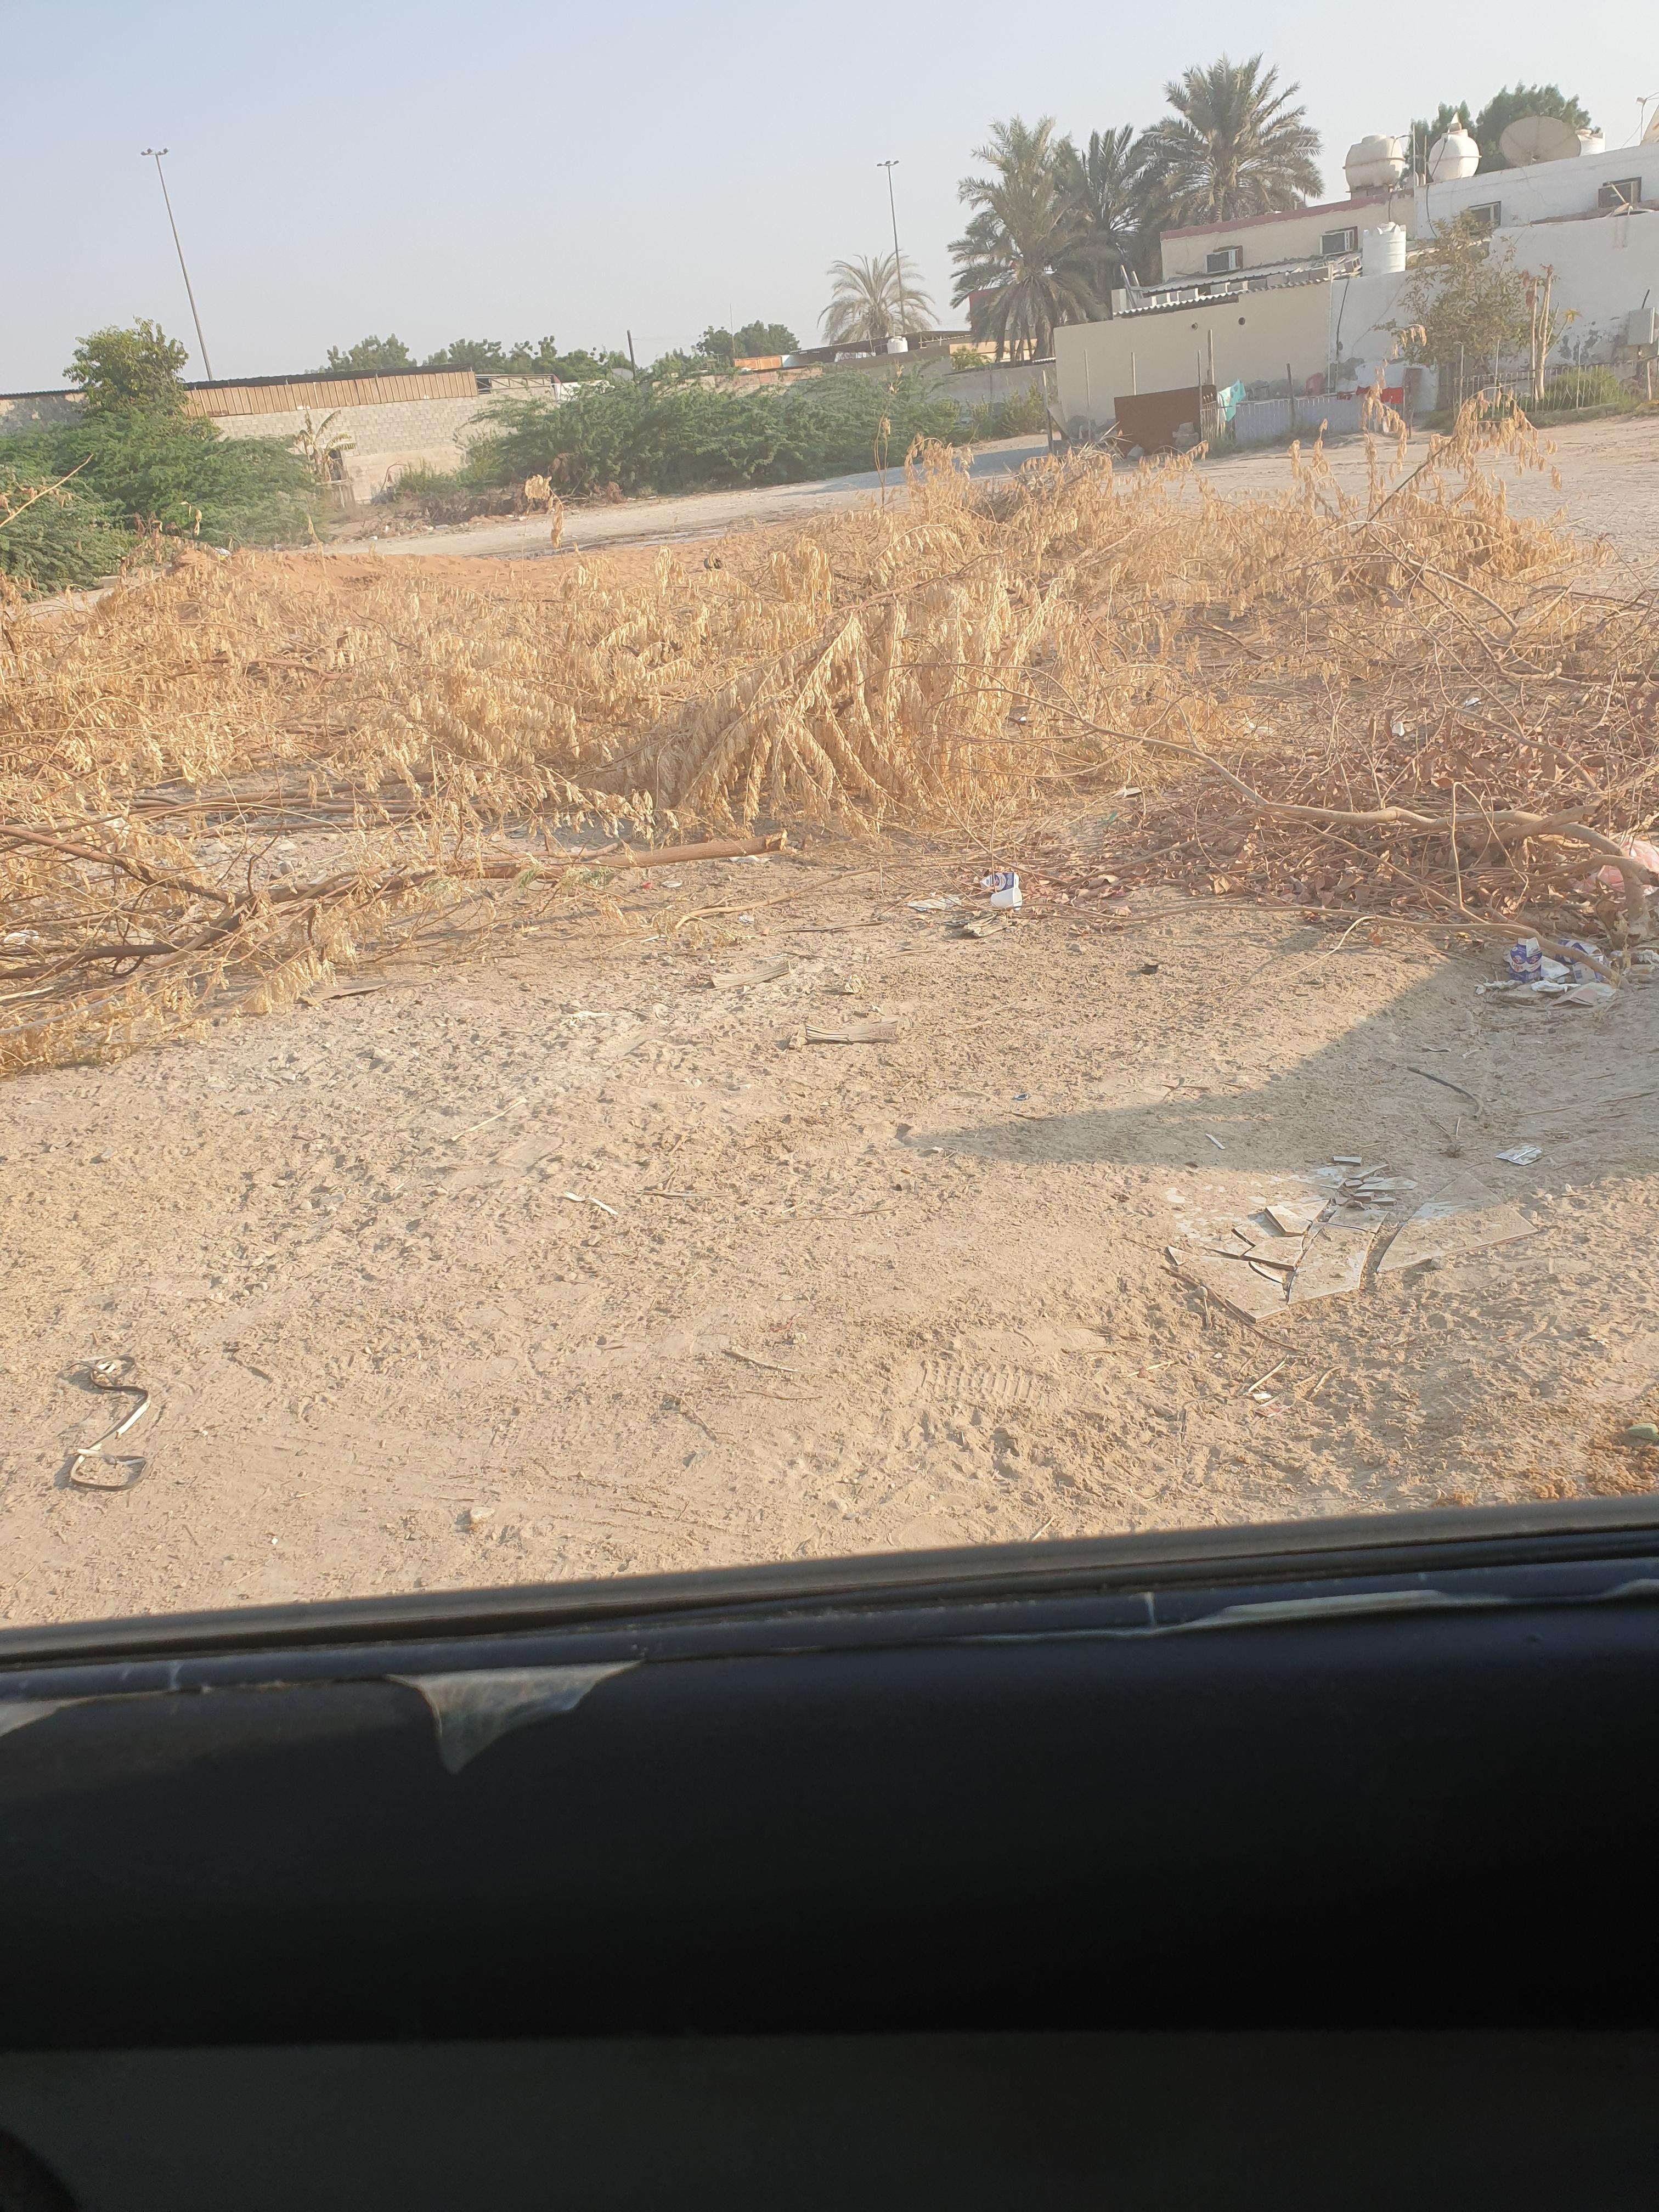fallen_trees: (139, 632, 1621, 1008), (45, 505, 756, 1097), (279, 458, 1072, 975), (831, 397, 1384, 982), (1159, 542, 1535, 1137)
